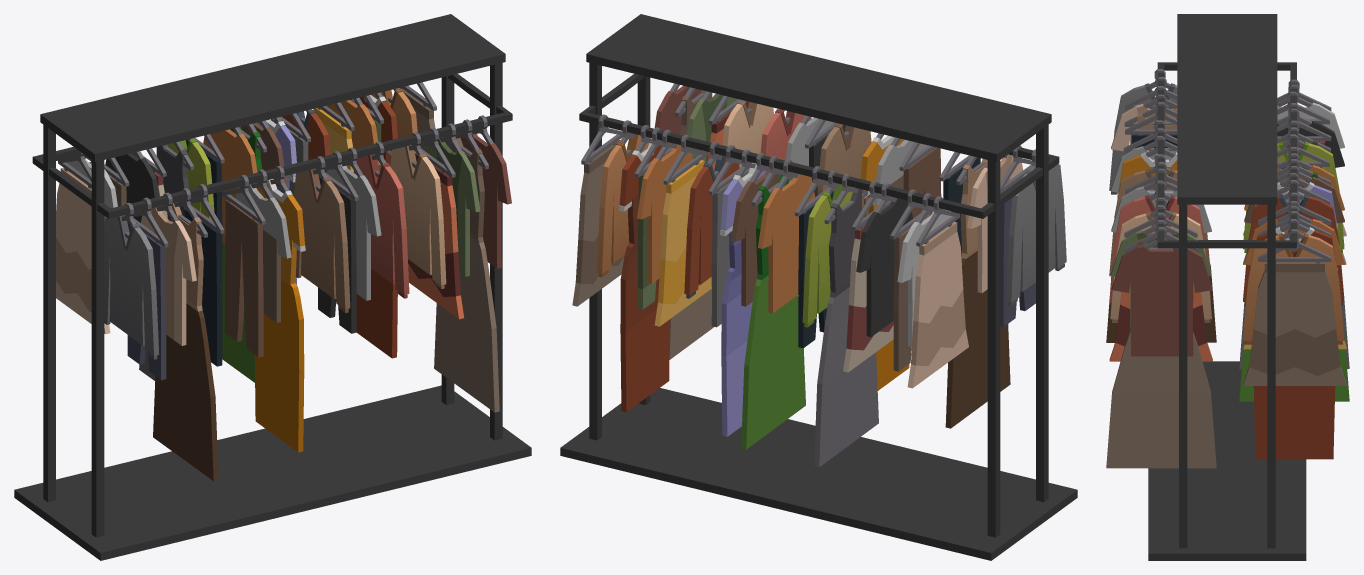
File: SM_Props_Rack_10.fbx
3 renders of one model, left to right at view 1: azimuth 30°, elevation 25°; view 2: azimuth 150°, elevation 25°; view 3: azimuth 270°, elevation 25°, orthographic. The views are drawn at different scales.
Parts seen in each view (by area): view 1: SM_Props_Rack_10; view 2: SM_Props_Rack_10; view 3: SM_Props_Rack_10.
Part boxes in pixels (x1,y1,x2,y2): SM_Props_Rack_10: (14, 14, 531, 560); SM_Props_Rack_10: (560, 14, 1077, 560); SM_Props_Rack_10: (1106, 14, 1349, 560).
Size of the model in its own units: 2 by 1.74 by 1.07.
